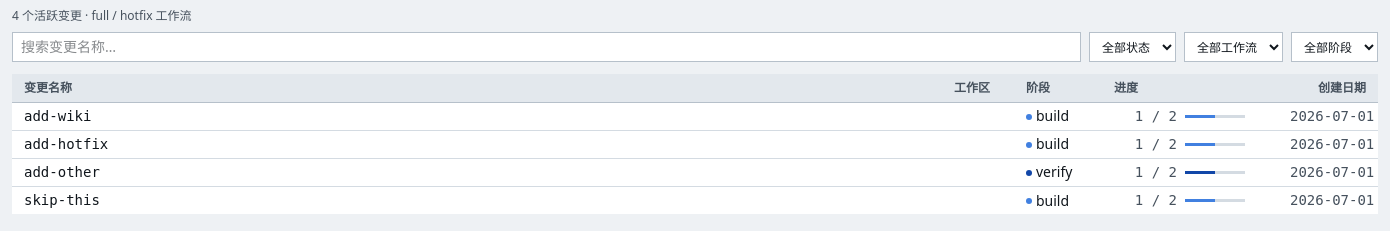
Test case: ChangeExplorer › applies search + workflow + phase filters as an intersection
The width and height of the screenshot is (1390, 231).
In the field with placeholder "搜索变更名称…": (546, 47) [12,32,1081,62], type "add"
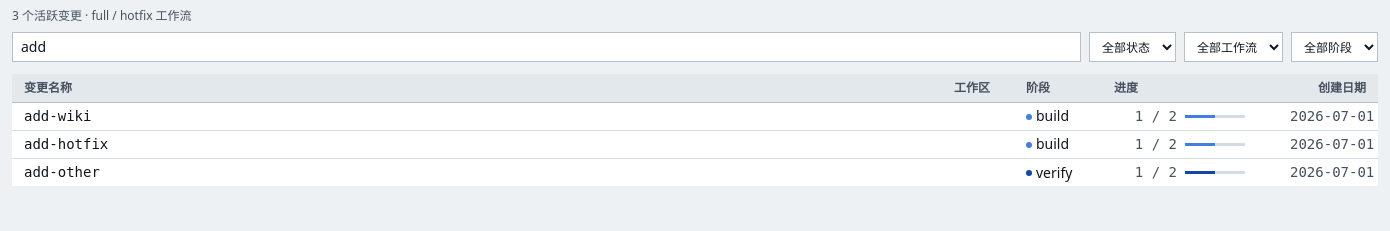
Select "full" in the dropdown named "工作流": (1234, 47) [1184,32,1283,62]
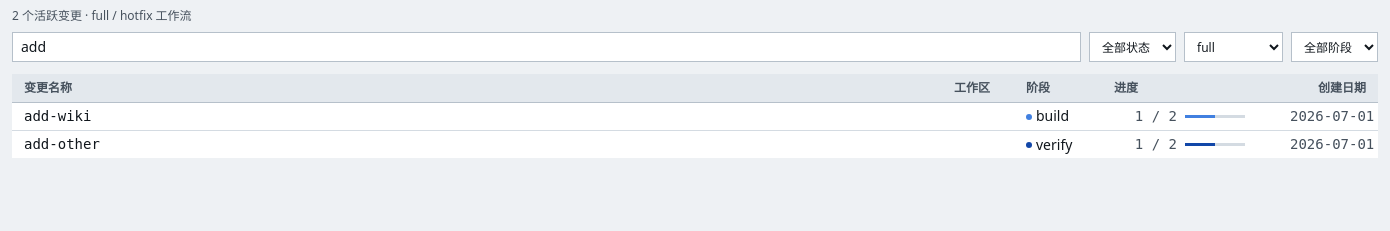
Select "build" in the dropdown named "阶段": (1334, 47) [1291,32,1378,62]
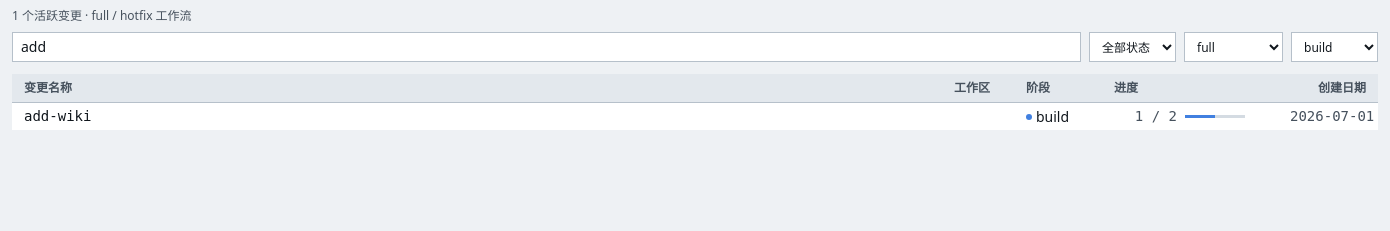
Expected: the text "add-wiki" is shown, [12,102,942,130]
Result: the button "add-other" is gone
